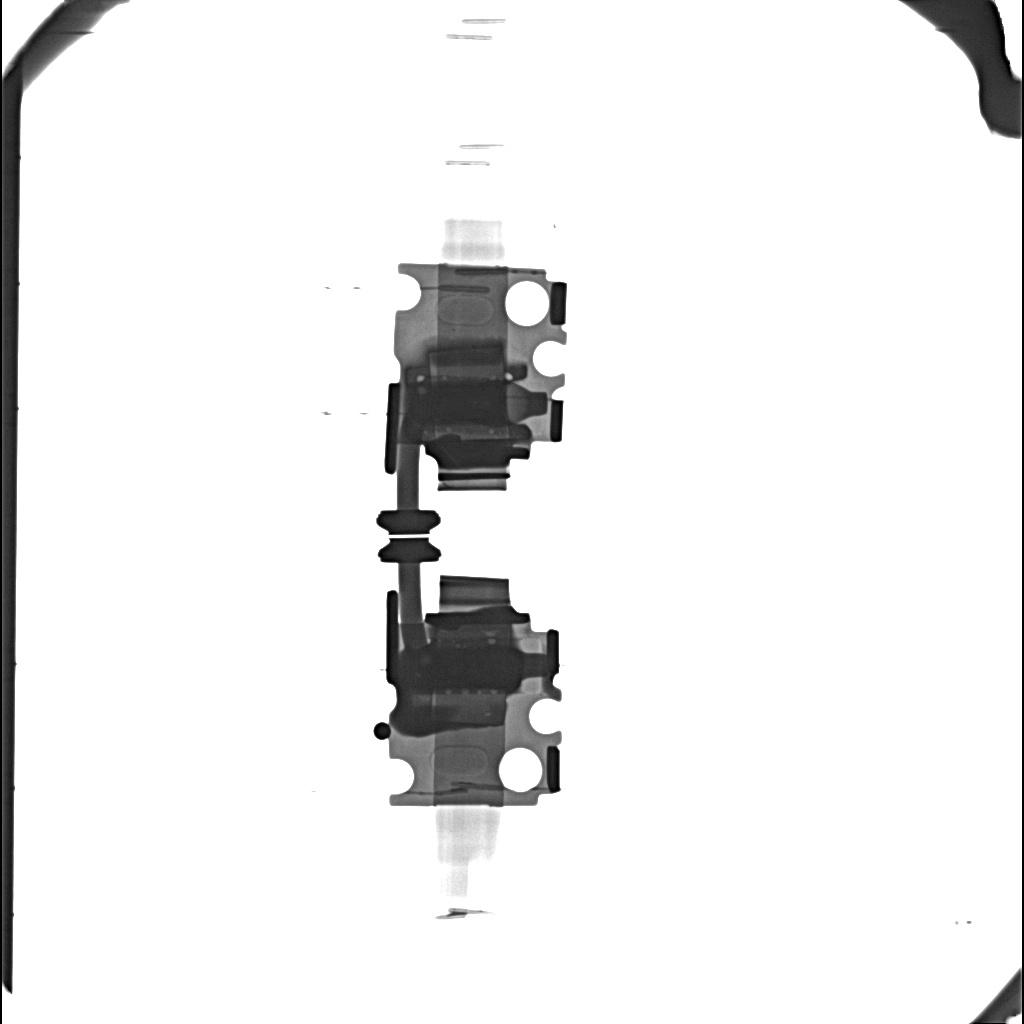气孔: (425, 343, 507, 376), (428, 694, 508, 727)
水纹: (410, 647, 522, 690), (411, 383, 510, 425)
